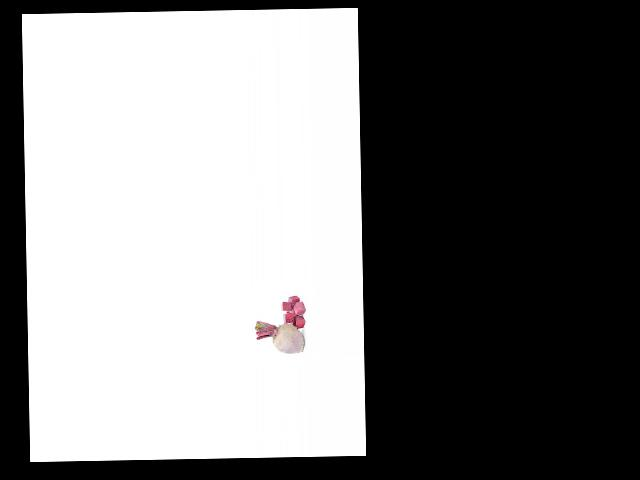beet: (255, 319, 305, 353)
